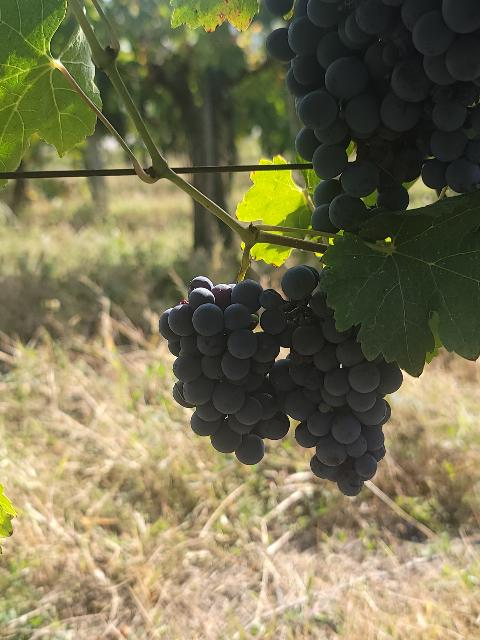grapes: (268, 0, 420, 234), (260, 265, 402, 496), (159, 276, 289, 464), (355, 0, 480, 192)
